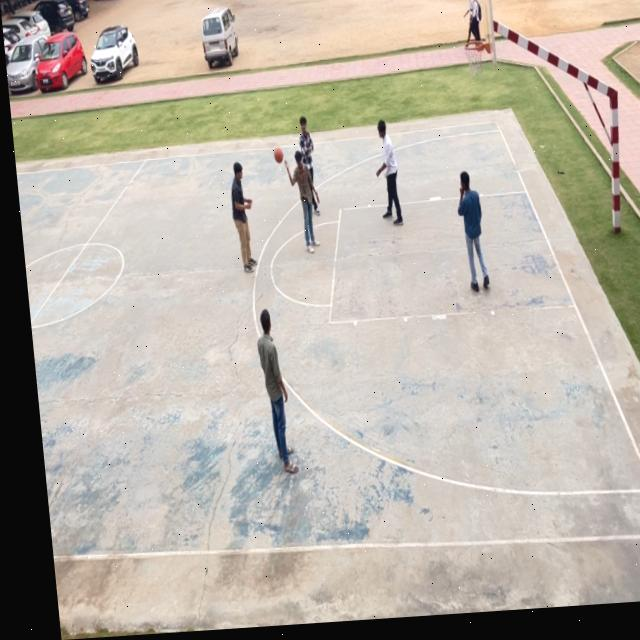basketball: (271, 143, 285, 164)
hoop: (463, 34, 488, 78)
